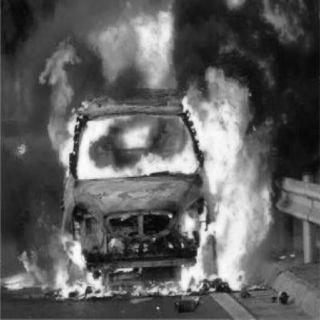Fire: (17, 10, 271, 300)
Smoke: (164, 1, 320, 77)
